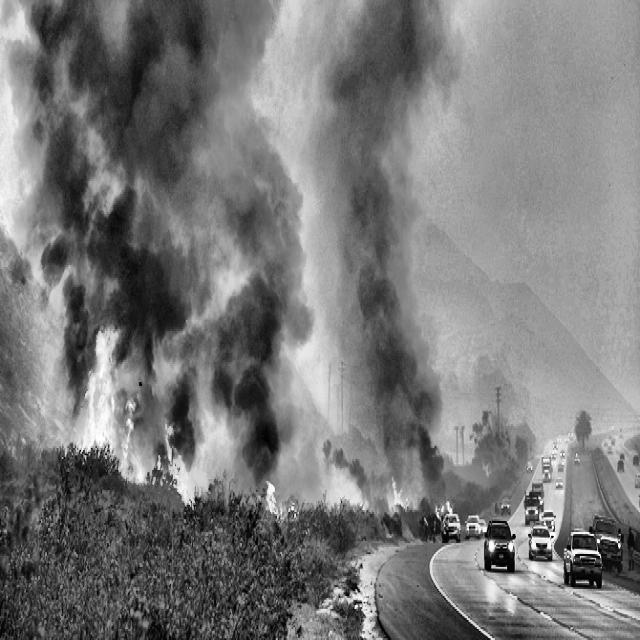fire: (44, 259, 467, 572)
